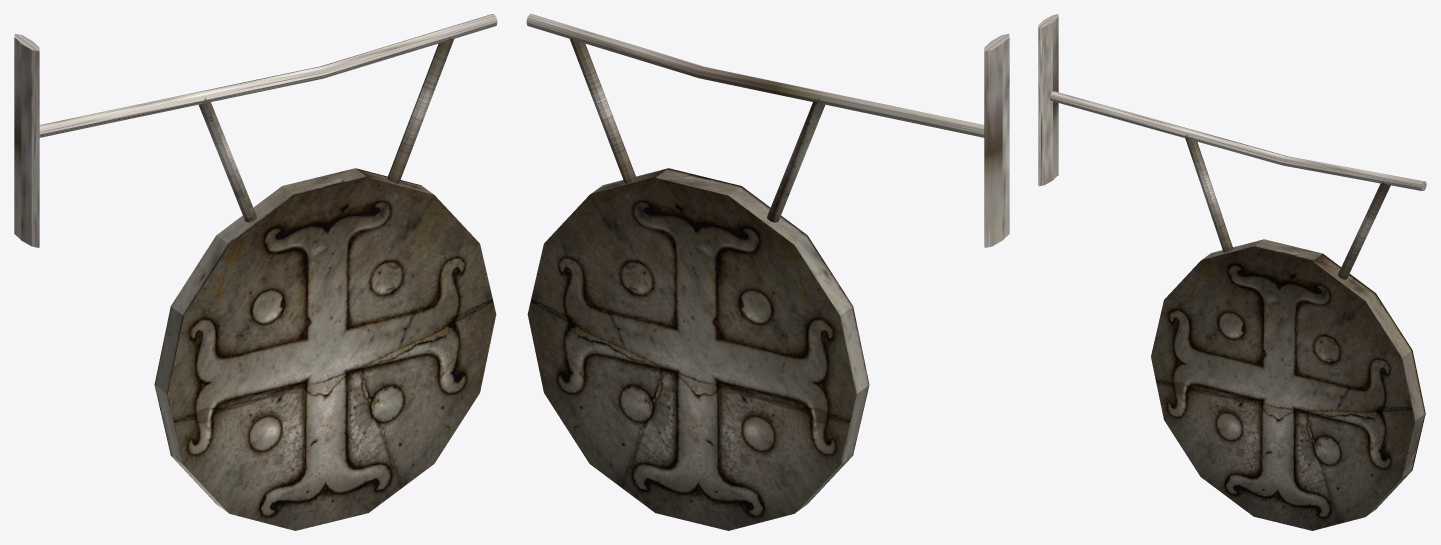
File: tavern_amblem.dae
The picture shows the model from 3 angles, left to right: view 1: azimuth 30°, elevation 25°; view 2: azimuth 150°, elevation 25°; view 3: azimuth 330°, elevation 25°; orthographic projection. The views are drawn at different scales.
Parts seen in each view (by area): view 1: Default_Layer; view 2: Default_Layer; view 3: Default_Layer.
Part boxes in pixels (x1,y1,x2,y2): Default_Layer: (14, 14, 497, 530); Default_Layer: (526, 14, 1009, 530); Default_Layer: (1038, 14, 1426, 530).
Size of the model in its own units: 2.88 by 3.18 by 0.2572.
